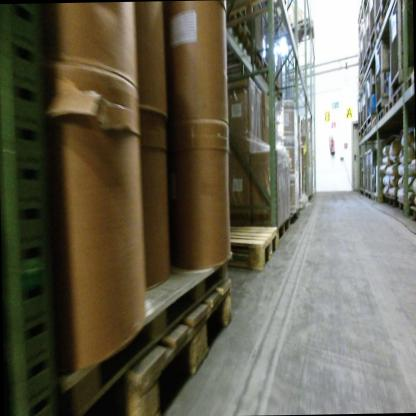pallet: (45, 248, 230, 410), (123, 277, 235, 416), (221, 219, 279, 276), (220, 46, 261, 84), (283, 15, 314, 48), (231, 0, 254, 44), (223, 11, 247, 50), (226, 35, 256, 65), (271, 213, 292, 248), (253, 60, 271, 85), (402, 65, 413, 93), (391, 84, 403, 109), (370, 35, 384, 55), (250, 39, 262, 62), (373, 14, 384, 39), (382, 190, 396, 208), (396, 198, 412, 212), (383, 97, 392, 121), (381, 0, 391, 20), (358, 71, 366, 88), (262, 58, 272, 71), (376, 109, 385, 123), (366, 48, 373, 65), (273, 79, 279, 97), (370, 115, 378, 128), (409, 204, 415, 221), (361, 126, 368, 140), (374, 190, 379, 205), (363, 61, 368, 75), (367, 122, 372, 134), (307, 193, 313, 200), (300, 200, 305, 206), (358, 135, 362, 141)
stillage: (387, 0, 413, 94), (375, 42, 393, 112), (365, 66, 378, 124), (366, 145, 380, 197), (367, 0, 377, 45), (356, 27, 364, 79), (359, 152, 366, 195), (362, 82, 368, 128), (363, 149, 369, 194), (365, 2, 370, 55), (362, 16, 367, 68), (374, 0, 383, 24), (359, 89, 364, 132), (356, 94, 361, 136)
